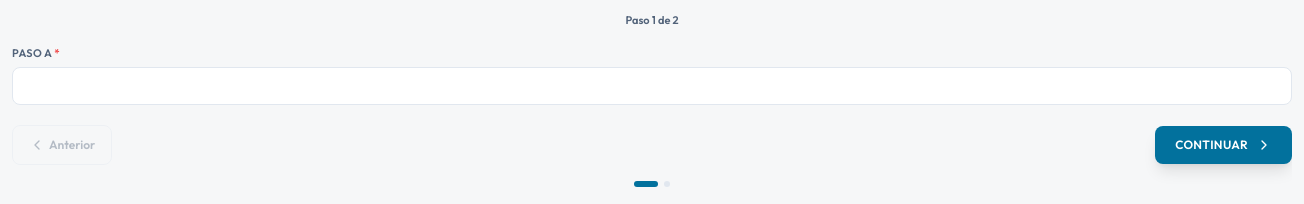
CmsFormRenderer (componente) › los indicadores de paso permiten volver a pasos anteriores
Type "x" into the field labelled "Paso A *" at x=652, y=86, box [12,67,1292,104]
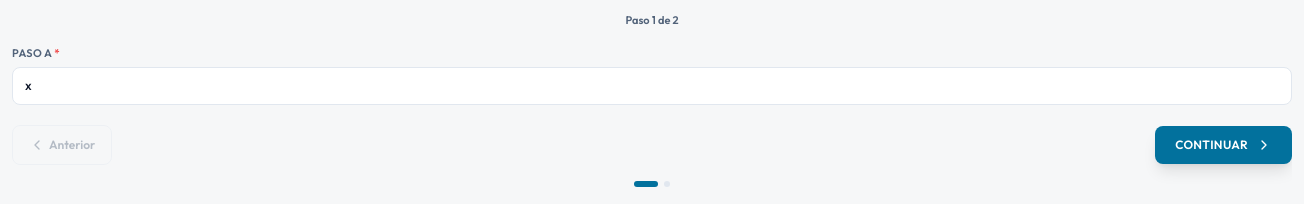
Click the button "Continuar" at x=1224, y=144, box [1155,126,1292,164]
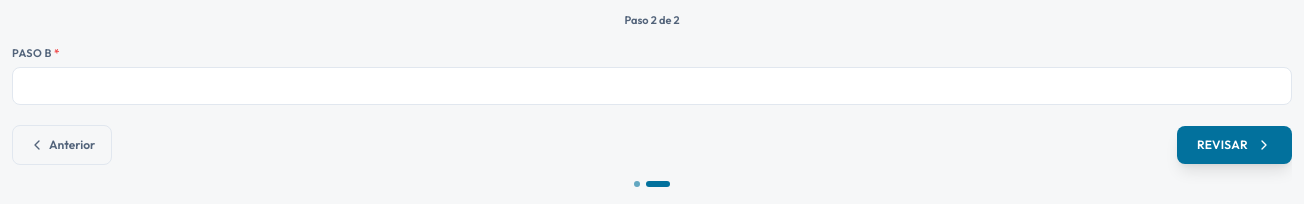
Expected: the text "Paso 2 de 2" is shown, [624,13,680,27]
Click the button named "Ir al paso 1" at x=637, y=184, box [634,180,640,186]
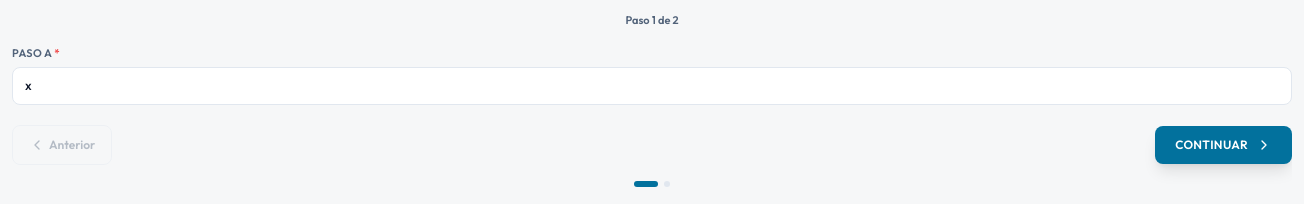
Expected: the text "Paso 1 de 2" is shown, [625,13,679,27]
Expected: the field labelled "Paso A *" holds "x", [12,67,1292,104]
